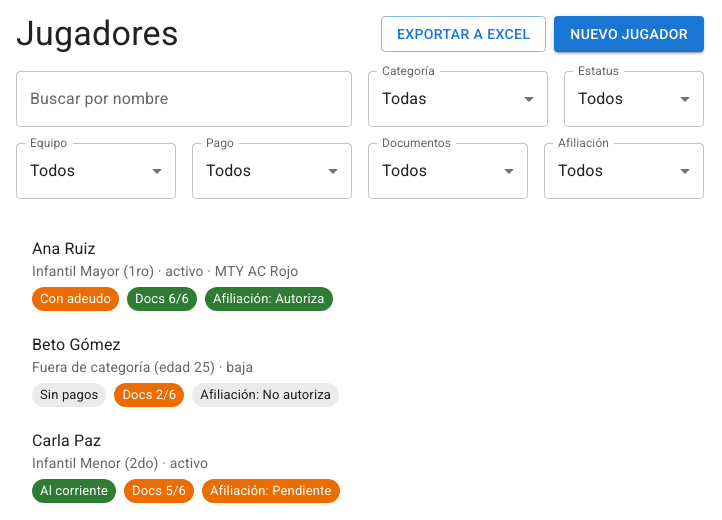
Test: team filter narrows to a single team and Todos restores everyone
The image size is (722, 520).
Expected: the text "Ana Ruiz" is shown, x1=32 y1=239 x2=96 y2=258
Select "MTY AC Rojo" in the dropdown labelled "Equipo": (96, 171) x1=16 y1=143 x2=176 y2=199
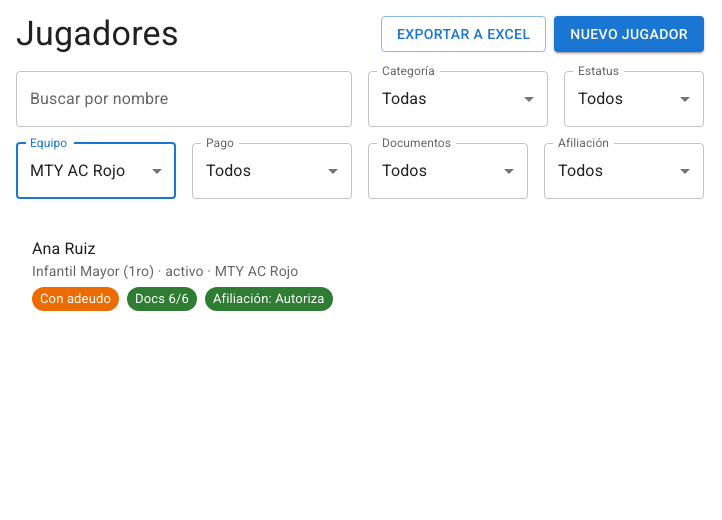
Expected: the text "Ana Ruiz" is shown, x1=32 y1=239 x2=96 y2=258
Now the link "Beto Gómez" is gone
Select "Todos" in the dropdown labelled "Equipo": (96, 171) x1=16 y1=143 x2=176 y2=199
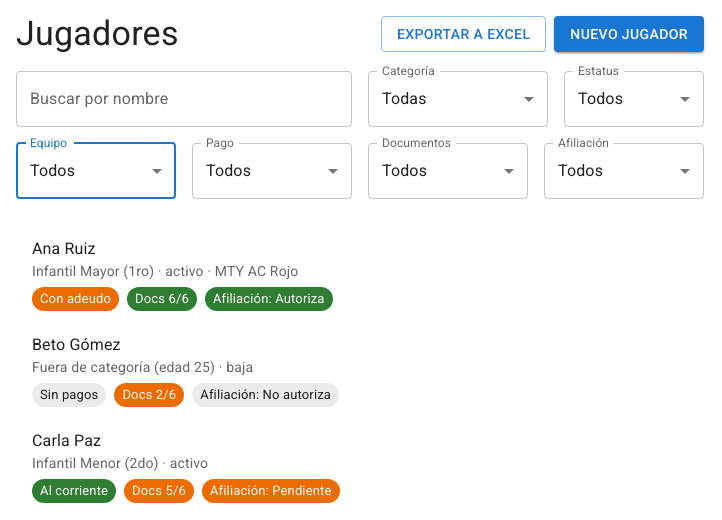
Expected: the text "Ana Ruiz" is shown, x1=32 y1=239 x2=96 y2=258
Now the text "Beto Gómez" is shown, box x1=32 y1=335 x2=121 y2=354
